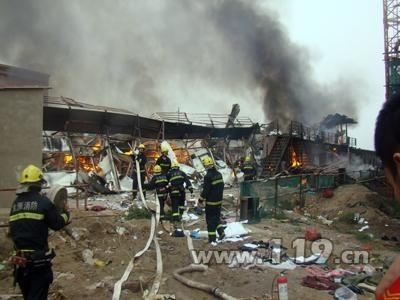fire: (79, 140, 103, 169), (289, 148, 302, 168), (151, 150, 160, 160)
